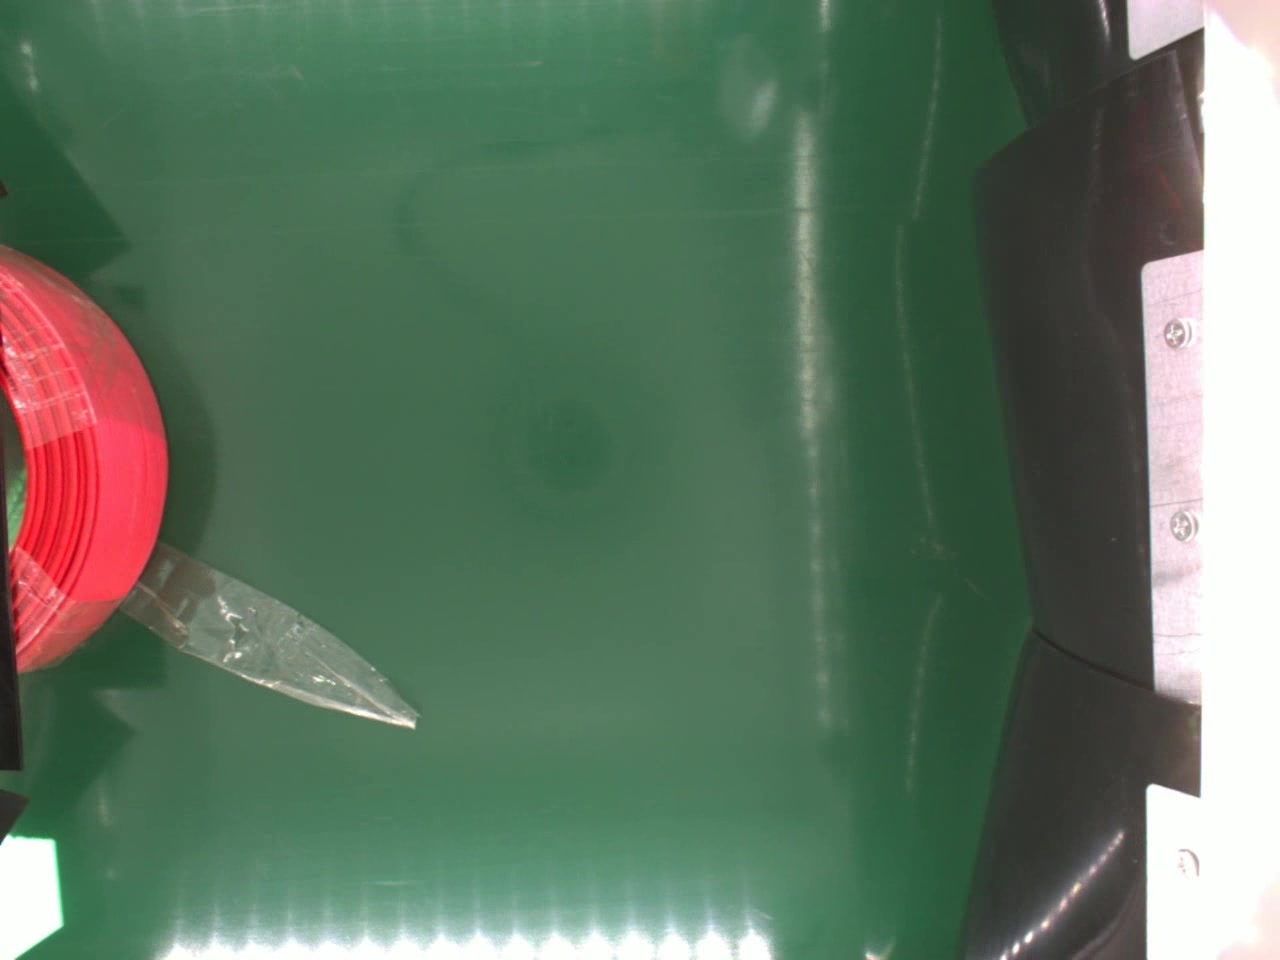red: (0, 241, 169, 669)
